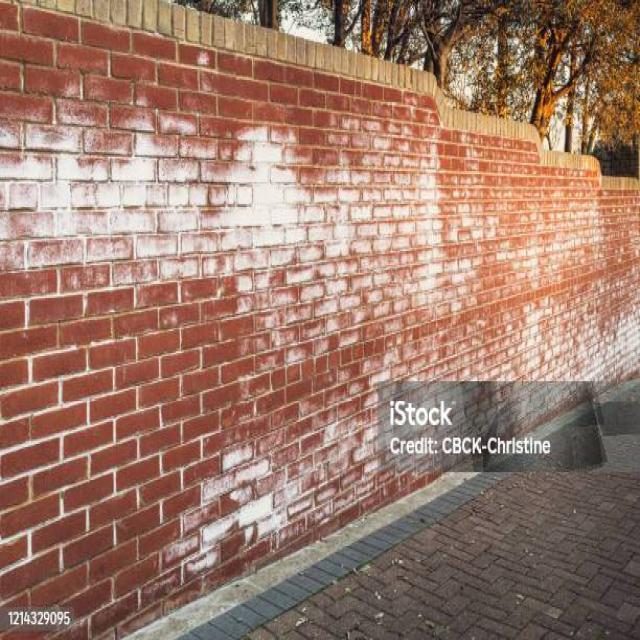stain_mould: (0, 83, 639, 581)
